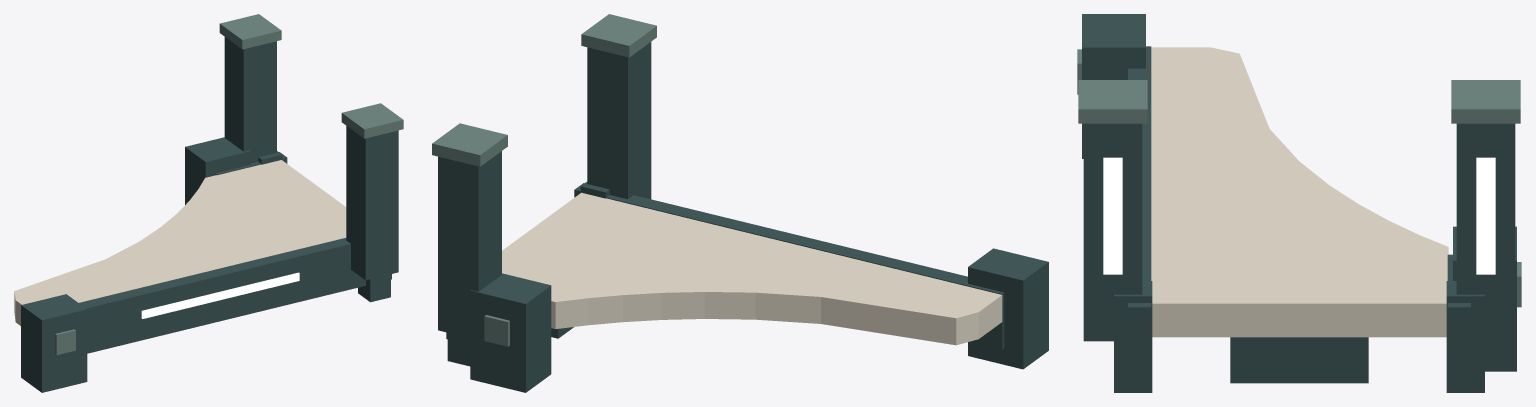
Rendered from Pier_Angled_65_Switch_lab.glb.
3 views of the same model, side by side, from view 1: azimuth 30°, elevation 25°; view 2: azimuth 150°, elevation 25°; view 3: azimuth 270°, elevation 25° (orthographic). The views are drawn at different scales.
Parts seen in each view (by area): view 1: Pier_Angled_65_Switch; view 2: Pier_Angled_65_Switch; view 3: Pier_Angled_65_Switch.
Part boxes in pixels (x1,y1,x2,y2): Pier_Angled_65_Switch: (14,14,403,392); Pier_Angled_65_Switch: (432,14,1048,392); Pier_Angled_65_Switch: (1077,14,1521,392).
Size of the model in its own units: 6.05 by 2.95 by 4.17.
